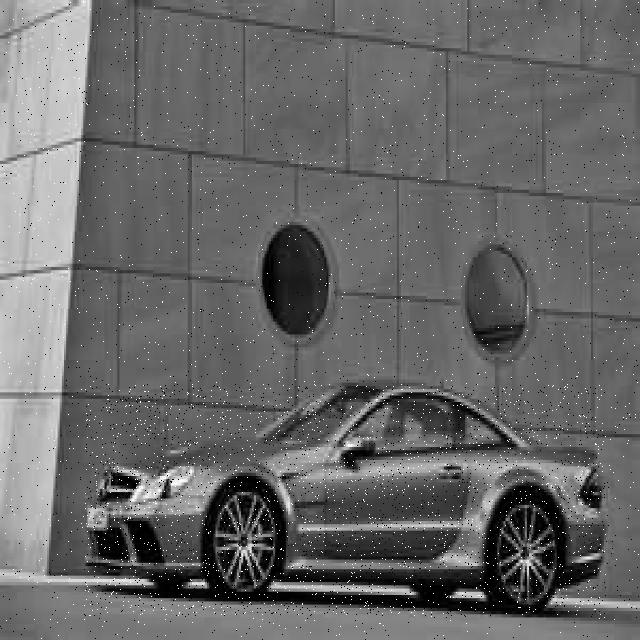Sedan: (85, 384, 606, 616)
